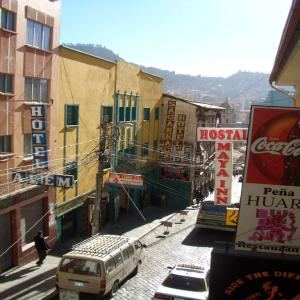Vehicle-registration-plate: (75, 284, 84, 288)
